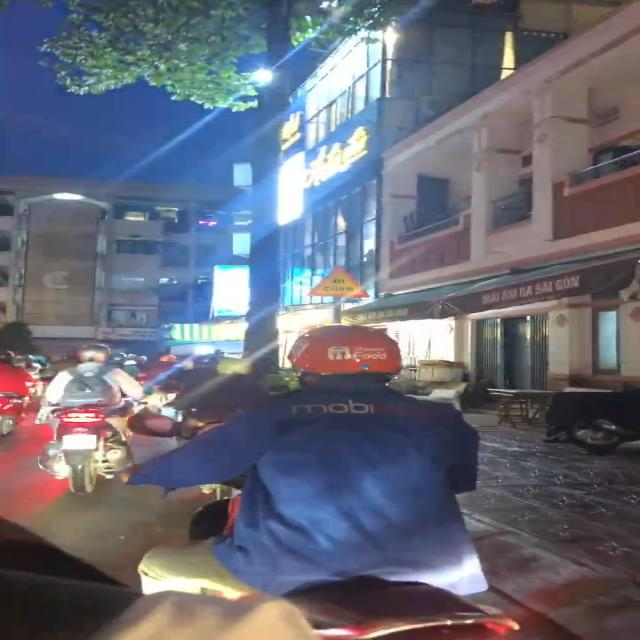Bien bao di cham: (300, 264, 378, 299)
